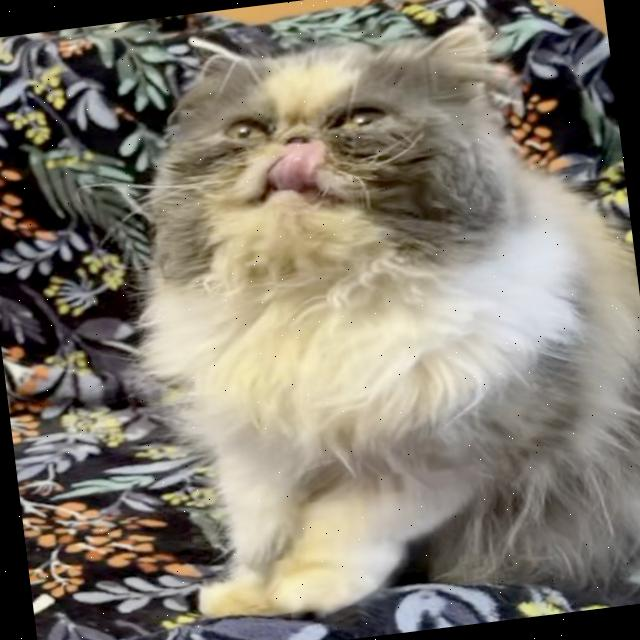persian_cat: (124, 16, 542, 314)
